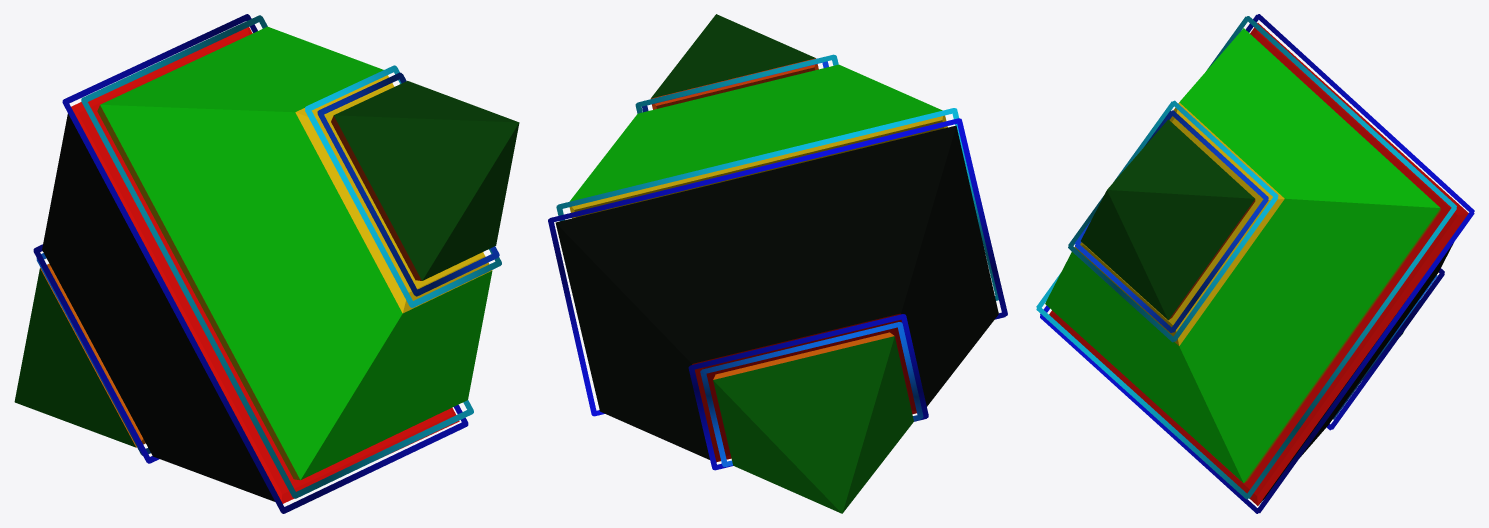
File: FX_Mesh_Octahedron_A.fbx
3 renders of one model, left to right at view 1: azimuth 30°, elevation 25°; view 2: azimuth 150°, elevation 25°; view 3: azimuth 270°, elevation 25°, orthographic. The views are drawn at different scales.
Parts seen in each view (by area): view 1: Octahedron_A; view 2: Octahedron_A; view 3: Octahedron_A.
Boxes of the visible parts, bbox=[...] form: Octahedron_A: bbox=[14, 14, 519, 513]; Octahedron_A: bbox=[548, 14, 1007, 513]; Octahedron_A: bbox=[1036, 14, 1474, 513].
Size of the model in its own units: 935 by 944 by 1085.
